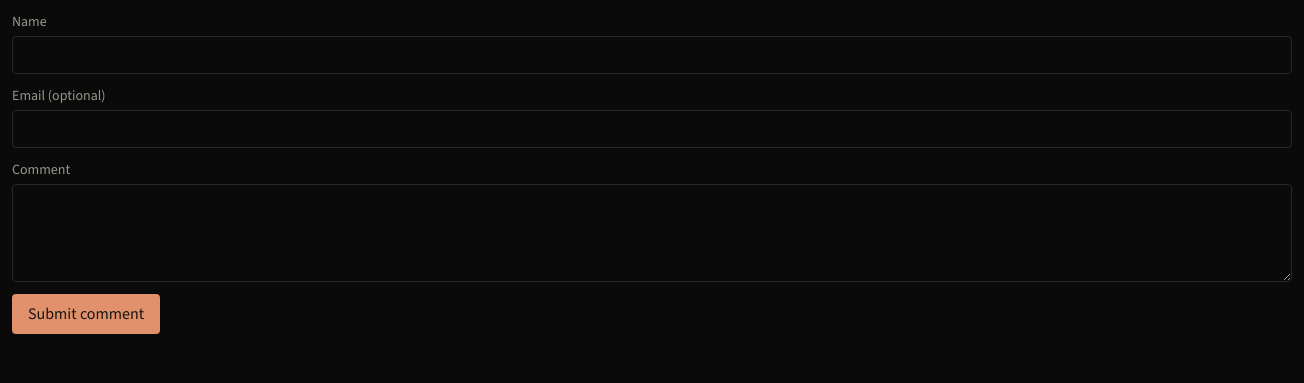
it: CommentForm › shows an error message and keeps the form visible when submission fails
Step 1. Type "Jane" into the field labelled "Name" → [652, 55], box top-left (12, 36), bottom-right (1292, 74)
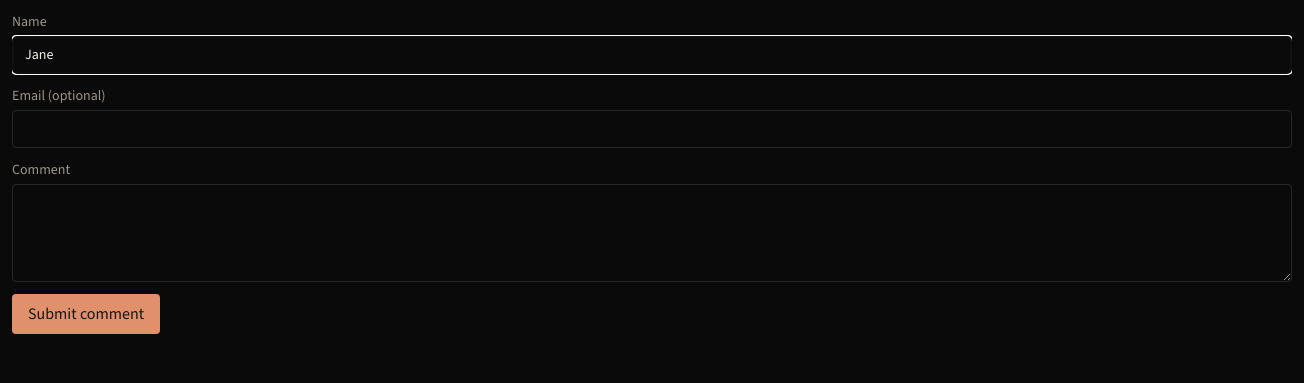
Step 2. Type "Nice." into the text box labelled "Comment" → [652, 233], box top-left (12, 184), bottom-right (1292, 282)
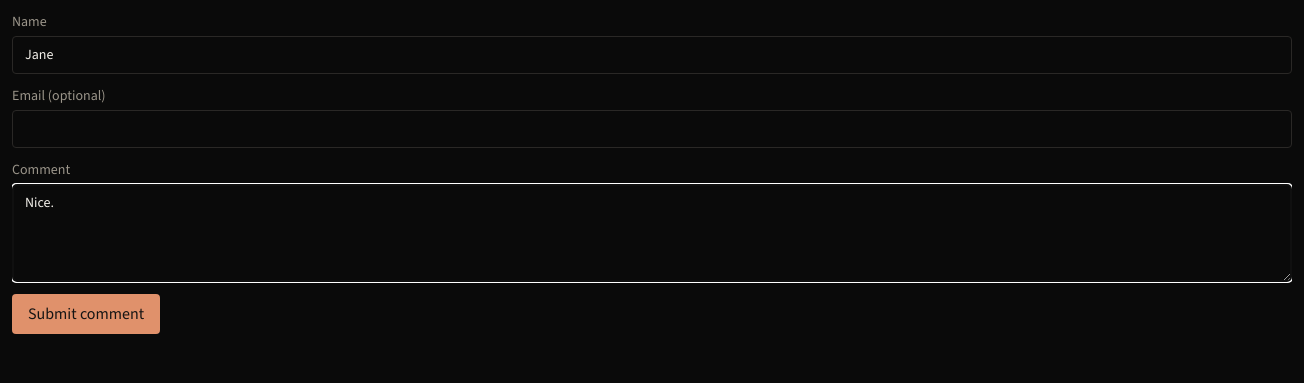
Step 3. Click the button "Submit comment" → [86, 314], box top-left (12, 294), bottom-right (160, 334)
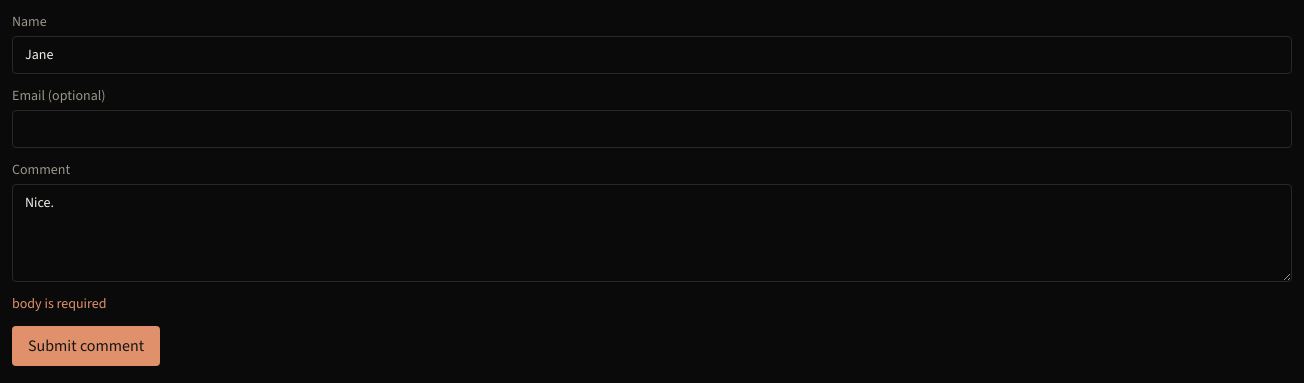
expect the text "body is required" is shown: met, box top-left (12, 294), bottom-right (106, 313)
